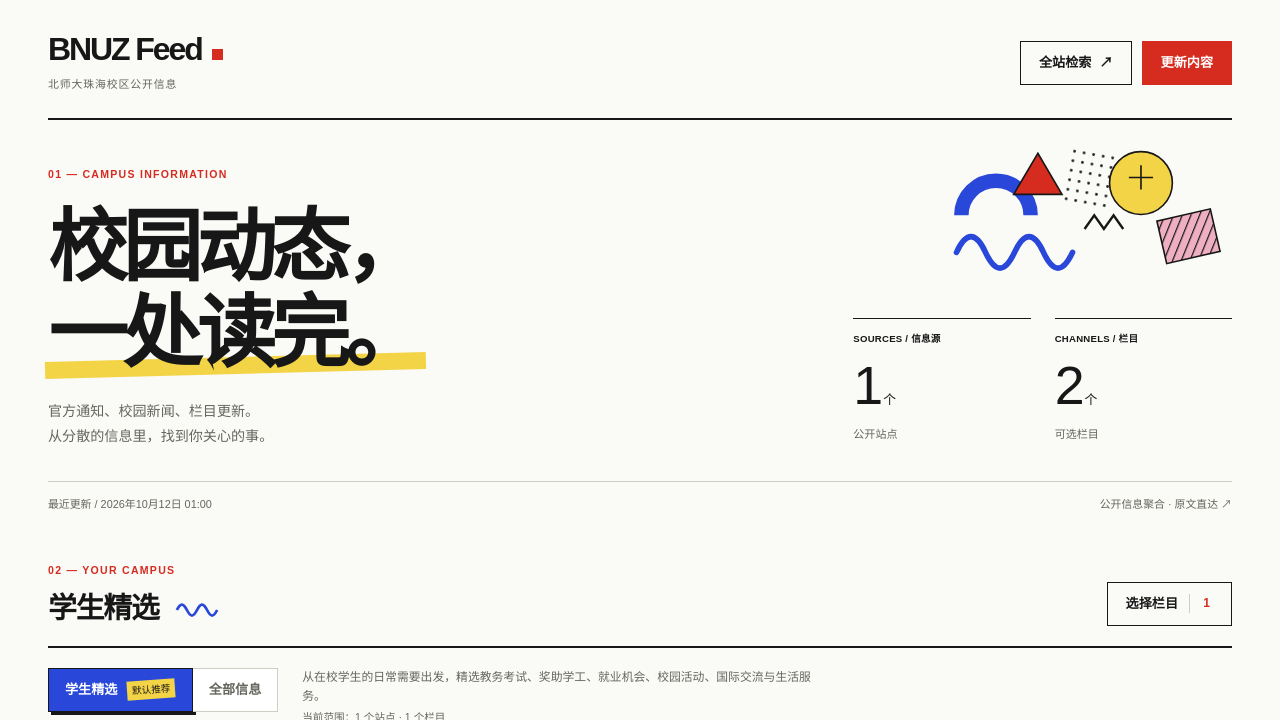
Test: App reading and filtering › traps keyboard focus and supports backdrop dismissal
Click the button "选择栏目 1": [1169, 604] box [1106,582,1232,626]
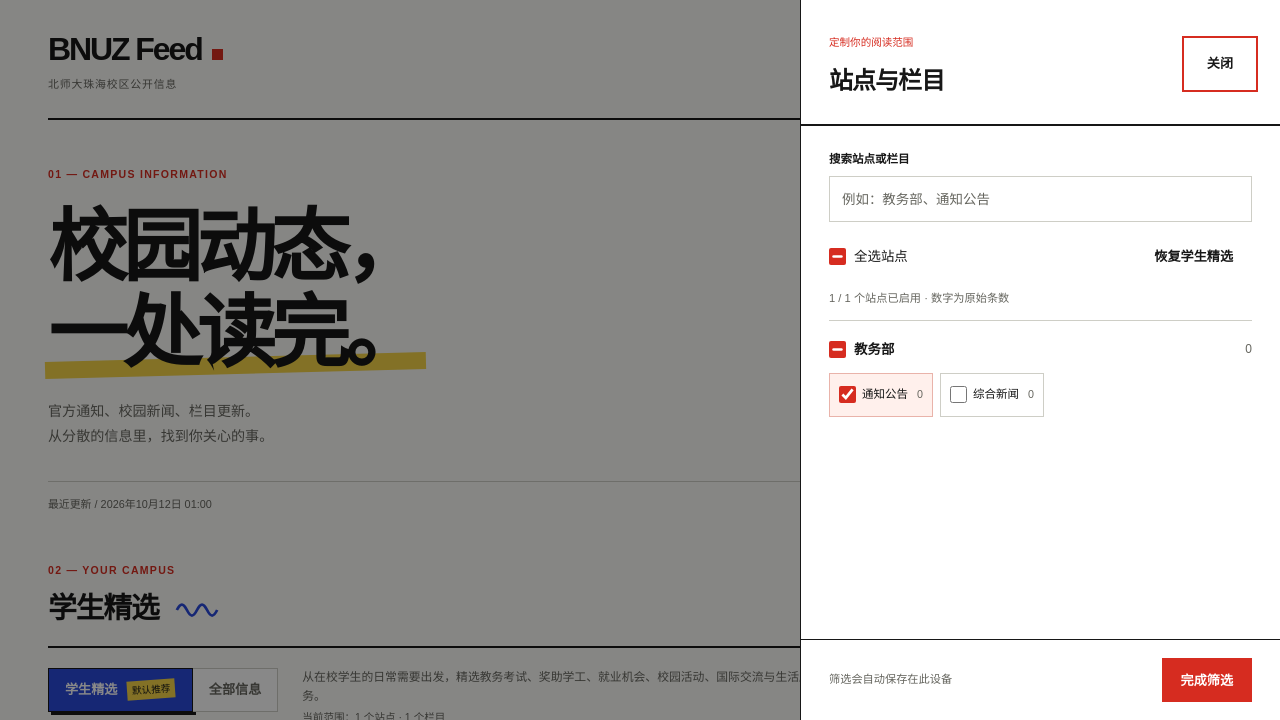
Press Tab
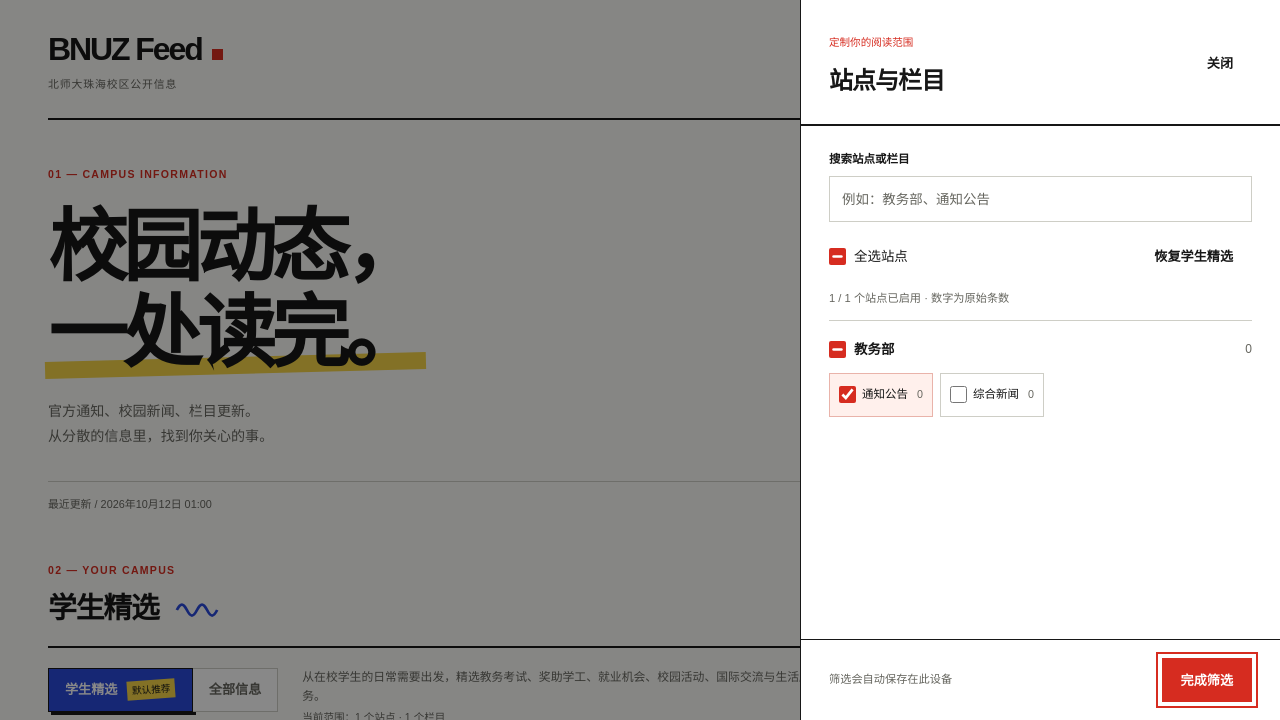
Press Tab
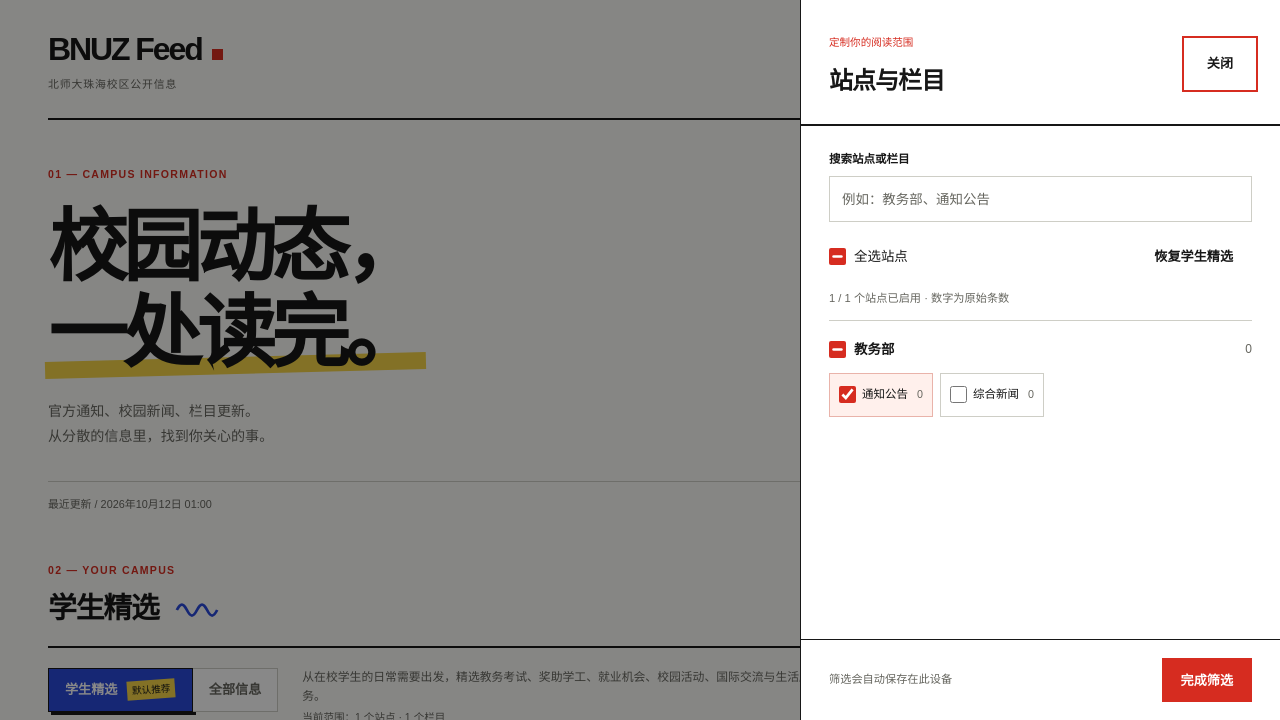
Click the element with class "app__scrim": [640, 360] box [0,0,1279,719]
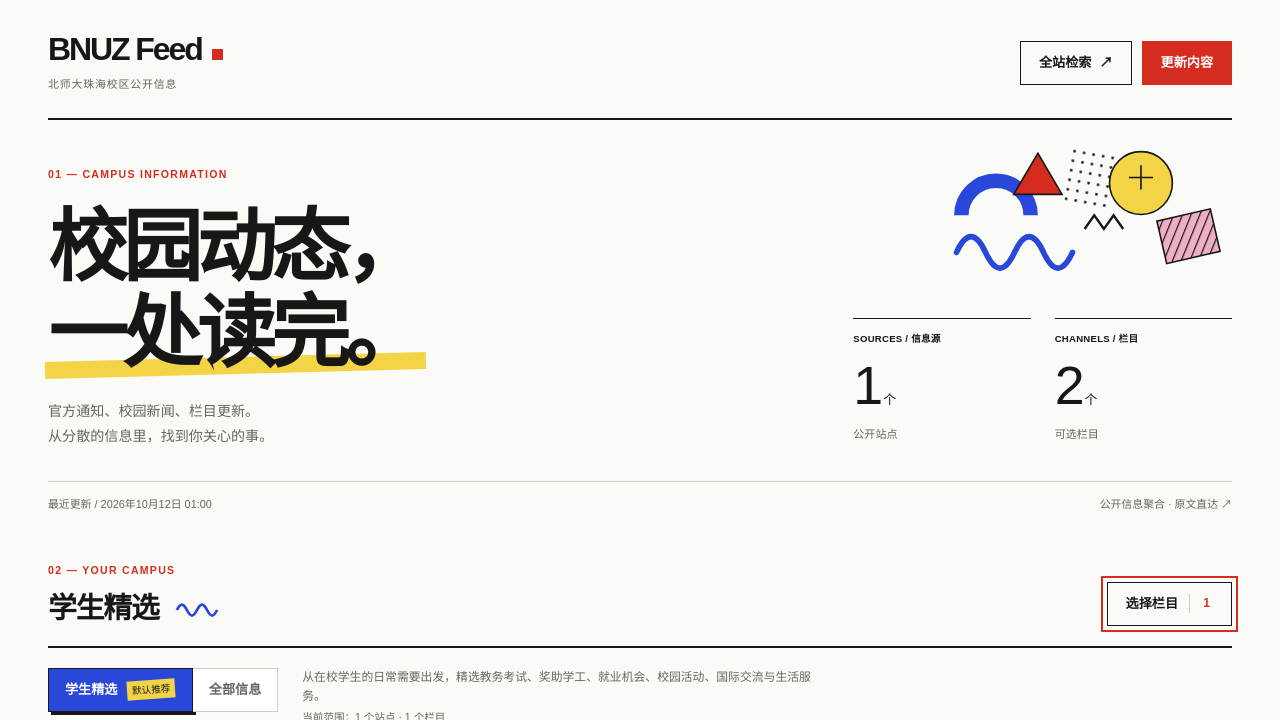
Result: the dialog is gone
